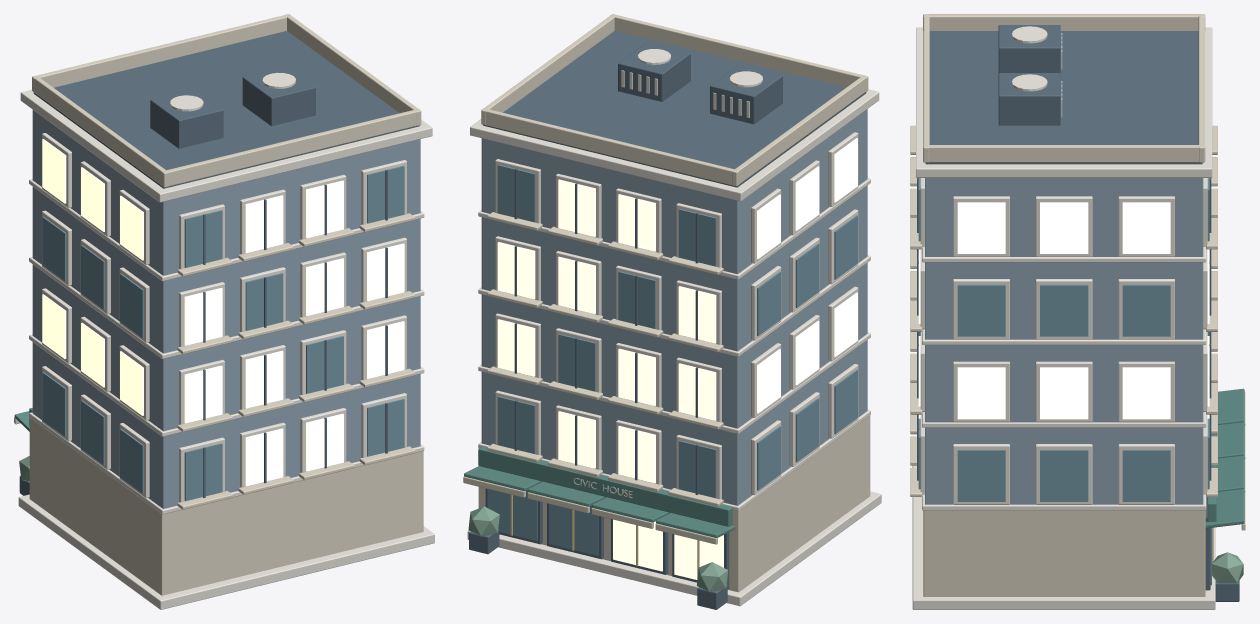
File: civic-apartments.glb
3 views of the same model, side by side, from view 1: azimuth 30°, elevation 25°; view 2: azimuth 150°, elevation 25°; view 3: azimuth 270°, elevation 25° (orthographic). The views are drawn at different scales.
Parts seen in each view (by area): view 1: civic-apartments_Warm limestone, civic-apartments_Slate blue facade, civic-apartments_Pale concrete, civic-apartments_Charcoal steel, civic-apartments_Occupied windows, civic-apartments_Blue glass; view 2: civic-apartments_Slate blue facade, civic-apartments_Pale concrete, civic-apartments_Warm limestone, civic-apartments_Charcoal steel, civic-apartments_Occupied windows, civic-apartments_Blue glass, civic-apartments_Deep evergreen signage, civic-apartments_Planter foliage; view 3: civic-apartments_Slate blue facade, civic-apartments_Warm limestone, civic-apartments_Pale concrete, civic-apartments_Charcoal steel, civic-apartments_Blue glass, civic-apartments_Occupied windows, civic-apartments_Deep evergreen signage, civic-apartments_Planter foliage.
Part boxes in pixels (x1,y1,x2,y2): civic-apartments_Warm limestone: (14,14,423,595); civic-apartments_Slate blue facade: (32,110,420,508); civic-apartments_Pale concrete: (18,72,434,609); civic-apartments_Charcoal steel: (19,31,419,497); civic-apartments_Occupied windows: (42,139,404,486); civic-apartments_Blue glass: (42,165,404,501); civic-apartments_Slate blue facade: (481,109,867,505); civic-apartments_Pale concrete: (467,49,881,606); civic-apartments_Warm limestone: (463,14,870,592); civic-apartments_Charcoal steel: (469,31,866,609); civic-apartments_Occupied windows: (497,138,857,579); civic-apartments_Blue glass: (487,164,857,555); civic-apartments_Deep evergreen signage: (464,446,735,537); civic-apartments_Planter foliage: (468,506,728,591); civic-apartments_Slate blue facade: (925,178,1203,504); civic-apartments_Warm limestone: (910,14,1245,596); civic-apartments_Pale concrete: (912,26,1217,609); civic-apartments_Charcoal steel: (917,25,1239,601); civic-apartments_Blue glass: (918,178,1211,585); civic-apartments_Occupied windows: (918,202,1209,419); civic-apartments_Deep evergreen signage: (1205,388,1244,528); civic-apartments_Planter foliage: (1211,552,1243,583).
Bounding box in the file's own units: 9.8 × 15.27 × 9.76.
